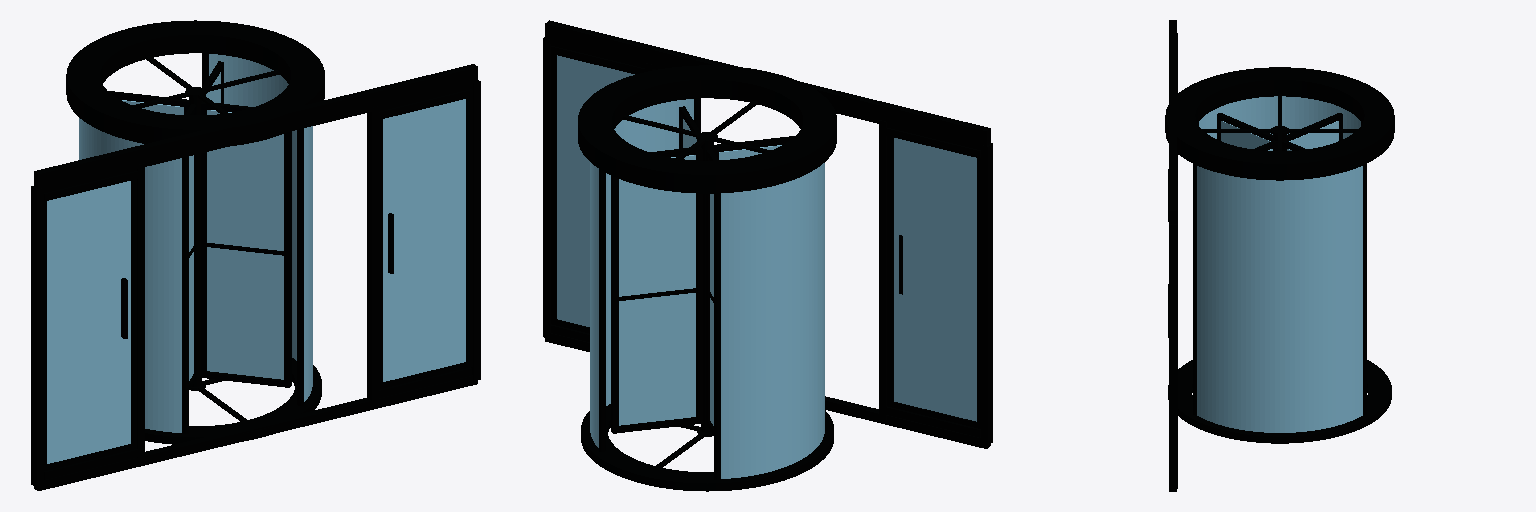
robot.urdf — revolving_glass_entrance:
<robot name="revolving_glass_entrance">
  <material name="charcoal_powder_coated_metal">
    <color rgba="0.015 0.017 0.018 1" />
    </material>
  <material name="gray_blue_tinted_glass">
    <color rgba="0.56 0.78 0.88 0.34" />
    </material>
  <link name="fixed_frame">
    <visual name="lower_threshold_ring">
      <origin xyz="0 0 0.03" rpy="0 0 0" />
      <geometry>
        <mesh filename="assets/meshes/lower_threshold_ring.obj" />
        </geometry>
      <material name="charcoal_powder_coated_metal">
        <color rgba="0.015 0.017 0.018 1" />
        </material>
      </visual>
    <visual name="upper_canopy_ring">
      <origin xyz="0 0 2.31" rpy="0 0 0" />
      <geometry>
        <mesh filename="assets/meshes/upper_canopy_ring.obj" />
        </geometry>
      <material name="charcoal_powder_coated_metal">
        <color rgba="0.015 0.017 0.018 1" />
        </material>
      </visual>
    <visual name="lower_bearing_plate">
      <origin xyz="0 0 0.05" rpy="0 0 0" />
      <geometry>
        <cylinder radius="0.07" length="0.02" />
        </geometry>
      <material name="charcoal_powder_coated_metal">
        <color rgba="0.015 0.017 0.018 1" />
        </material>
      </visual>
    <visual name="upper_bearing_plate">
      <origin xyz="0 0 2.25" rpy="0 0 0" />
      <geometry>
        <cylinder radius="0.07" length="0.02" />
        </geometry>
      <material name="charcoal_powder_coated_metal">
        <color rgba="0.015 0.017 0.018 1" />
        </material>
      </visual>
    <visual name="lower_spoke_0">
      <origin xyz="0.39 0 0.05" rpy="0 0 0" />
      <geometry>
        <box size="0.67 0.035 0.02" />
        </geometry>
      <material name="charcoal_powder_coated_metal">
        <color rgba="0.015 0.017 0.018 1" />
        </material>
      </visual>
    <visual name="upper_spoke_0">
      <origin xyz="0.39 0 2.25" rpy="0 0 0" />
      <geometry>
        <box size="0.67 0.035 0.02" />
        </geometry>
      <material name="charcoal_powder_coated_metal">
        <color rgba="0.015 0.017 0.018 1" />
        </material>
      </visual>
    <visual name="lower_spoke_1">
      <origin xyz="2.38806e-17 0.39 0.05" rpy="0 0 1.5708" />
      <geometry>
        <box size="0.67 0.035 0.02" />
        </geometry>
      <material name="charcoal_powder_coated_metal">
        <color rgba="0.015 0.017 0.018 1" />
        </material>
      </visual>
    <visual name="upper_spoke_1">
      <origin xyz="2.38806e-17 0.39 2.25" rpy="0 0 1.5708" />
      <geometry>
        <box size="0.67 0.035 0.02" />
        </geometry>
      <material name="charcoal_powder_coated_metal">
        <color rgba="0.015 0.017 0.018 1" />
        </material>
      </visual>
    <visual name="lower_spoke_2">
      <origin xyz="-0.39 4.77612e-17 0.05" rpy="0 0 3.14159" />
      <geometry>
        <box size="0.67 0.035 0.02" />
        </geometry>
      <material name="charcoal_powder_coated_metal">
        <color rgba="0.015 0.017 0.018 1" />
        </material>
      </visual>
    <visual name="upper_spoke_2">
      <origin xyz="-0.39 4.77612e-17 2.25" rpy="0 0 3.14159" />
      <geometry>
        <box size="0.67 0.035 0.02" />
        </geometry>
      <material name="charcoal_powder_coated_metal">
        <color rgba="0.015 0.017 0.018 1" />
        </material>
      </visual>
    <visual name="lower_spoke_3">
      <origin xyz="-7.16418e-17 -0.39 0.05" rpy="0 0 4.71239" />
      <geometry>
        <box size="0.67 0.035 0.02" />
        </geometry>
      <material name="charcoal_powder_coated_metal">
        <color rgba="0.015 0.017 0.018 1" />
        </material>
      </visual>
    <visual name="upper_spoke_3">
      <origin xyz="-7.16418e-17 -0.39 2.25" rpy="0 0 4.71239" />
      <geometry>
        <box size="0.67 0.035 0.02" />
        </geometry>
      <material name="charcoal_powder_coated_metal">
        <color rgba="0.015 0.017 0.018 1" />
        </material>
      </visual>
    <visual name="perimeter_post_0">
      <origin xyz="0.453125 -0.64713 1.15" rpy="0 0 0" />
      <geometry>
        <cylinder radius="0.024" length="2.18" />
        </geometry>
      <material name="charcoal_powder_coated_metal">
        <color rgba="0.015 0.017 0.018 1" />
        </material>
      </visual>
    <visual name="perimeter_post_1">
      <origin xyz="0.453125 0.64713 1.15" rpy="0 0 0" />
      <geometry>
        <cylinder radius="0.024" length="2.18" />
        </geometry>
      <material name="charcoal_powder_coated_metal">
        <color rgba="0.015 0.017 0.018 1" />
        </material>
      </visual>
    <visual name="perimeter_post_2">
      <origin xyz="-0.453125 0.64713 1.15" rpy="0 0 0" />
      <geometry>
        <cylinder radius="0.024" length="2.18" />
        </geometry>
      <material name="charcoal_powder_coated_metal">
        <color rgba="0.015 0.017 0.018 1" />
        </material>
      </visual>
    <visual name="perimeter_post_3">
      <origin xyz="-0.453125 -0.64713 1.15" rpy="0 0 0" />
      <geometry>
        <cylinder radius="0.024" length="2.18" />
        </geometry>
      <material name="charcoal_powder_coated_metal">
        <color rgba="0.015 0.017 0.018 1" />
        </material>
      </visual>
    <visual name="right_curved_glass">
      <origin xyz="0 0 1.15" rpy="0 0 0" />
      <geometry>
        <mesh filename="assets/meshes/right_curved_glass.obj" />
        </geometry>
      <material name="gray_blue_tinted_glass">
        <color rgba="0.56 0.78 0.88 0.34" />
        </material>
      </visual>
    <visual name="left_curved_glass">
      <origin xyz="0 0 1.15" rpy="0 0 0" />
      <geometry>
        <mesh filename="assets/meshes/left_curved_glass.obj" />
        </geometry>
      <material name="gray_blue_tinted_glass">
        <color rgba="0.56 0.78 0.88 0.34" />
        </material>
      </visual>
    <visual name="front_sill">
      <origin xyz="0 -0.82 0.035" rpy="0 0 0" />
      <geometry>
        <box size="3.46 0.06 0.07" />
        </geometry>
      <material name="charcoal_powder_coated_metal">
        <color rgba="0.015 0.017 0.018 1" />
        </material>
      </visual>
    <visual name="front_header">
      <origin xyz="0 -0.82 2.31" rpy="0 0 0" />
      <geometry>
        <box size="3.46 0.06 0.14" />
        </geometry>
      <material name="charcoal_powder_coated_metal">
        <color rgba="0.015 0.017 0.018 1" />
        </material>
      </visual>
    <visual name="left_outer_jamb">
      <origin xyz="-1.7175 -0.82 1.15" rpy="0 0 0" />
      <geometry>
        <box size="0.055 0.07 2.24" />
        </geometry>
      <material name="charcoal_powder_coated_metal">
        <color rgba="0.015 0.017 0.018 1" />
        </material>
      </visual>
    <visual name="left_inner_jamb">
      <origin xyz="-0.92 -0.82 1.15" rpy="0 0 0" />
      <geometry>
        <box size="0.055 0.07 2.24" />
        </geometry>
      <material name="charcoal_powder_coated_metal">
        <color rgba="0.015 0.017 0.018 1" />
        </material>
      </visual>
    <visual name="right_inner_jamb">
      <origin xyz="0.92 -0.82 1.15" rpy="0 0 0" />
      <geometry>
        <box size="0.055 0.07 2.24" />
        </geometry>
      <material name="charcoal_powder_coated_metal">
        <color rgba="0.015 0.017 0.018 1" />
        </material>
      </visual>
    <visual name="right_outer_jamb">
      <origin xyz="1.7175 -0.82 1.15" rpy="0 0 0" />
      <geometry>
        <box size="0.055 0.07 2.24" />
        </geometry>
      <material name="charcoal_powder_coated_metal">
        <color rgba="0.015 0.017 0.018 1" />
        </material>
      </visual>
    <visual name="left_side_top_rail">
      <origin xyz="-1.3 -0.82 2.195" rpy="0 0 0" />
      <geometry>
        <box size="0.76 0.07 0.055" />
        </geometry>
      <material name="charcoal_powder_coated_metal">
        <color rgba="0.015 0.017 0.018 1" />
        </material>
      </visual>
    <visual name="left_side_bottom_rail">
      <origin xyz="-1.3 -0.82 0.105" rpy="0 0 0" />
      <geometry>
        <box size="0.76 0.07 0.055" />
        </geometry>
      <material name="charcoal_powder_coated_metal">
        <color rgba="0.015 0.017 0.018 1" />
        </material>
      </visual>
    <visual name="right_side_top_rail">
      <origin xyz="1.3 -0.82 2.195" rpy="0 0 0" />
      <geometry>
        <box size="0.76 0.07 0.055" />
        </geometry>
      <material name="charcoal_powder_coated_metal">
        <color rgba="0.015 0.017 0.018 1" />
        </material>
      </visual>
    <visual name="right_side_bottom_rail">
      <origin xyz="1.3 -0.82 0.105" rpy="0 0 0" />
      <geometry>
        <box size="0.76 0.07 0.055" />
        </geometry>
      <material name="charcoal_powder_coated_metal">
        <color rgba="0.015 0.017 0.018 1" />
        </material>
      </visual>
    </link>
  <link name="carousel">
    <visual name="central_shaft">
      <origin xyz="0 0 1.15" rpy="0 0 0" />
      <geometry>
        <cylinder radius="0.045" length="2.18" />
        </geometry>
      <material name="charcoal_powder_coated_metal">
        <color rgba="0.015 0.017 0.018 1" />
        </material>
      </visual>
    <visual name="leaf_0_glass">
      <origin xyz="0.251023 0.251023 1.15" rpy="0 0 0.785398" />
      <geometry>
        <box size="0.55 0.012 1.96" />
        </geometry>
      <material name="gray_blue_tinted_glass">
        <color rgba="0.56 0.78 0.88 0.34" />
        </material>
      </visual>
    <visual name="leaf_0_inner_stile">
      <origin xyz="0.0388909 0.0388909 1.15" rpy="0 0 0.785398" />
      <geometry>
        <box size="0.04 0.04 2.06" />
        </geometry>
      <material name="charcoal_powder_coated_metal">
        <color rgba="0.015 0.017 0.018 1" />
        </material>
      </visual>
    <visual name="leaf_0_outer_stile">
      <origin xyz="0.459619 0.459619 1.15" rpy="0 0 0.785398" />
      <geometry>
        <box size="0.04 0.04 2.06" />
        </geometry>
      <material name="charcoal_powder_coated_metal">
        <color rgba="0.015 0.017 0.018 1" />
        </material>
      </visual>
    <visual name="leaf_0_top_rail">
      <origin xyz="0.251023 0.251023 2.16" rpy="0 0 0.785398" />
      <geometry>
        <box size="0.62 0.036 0.04" />
        </geometry>
      <material name="charcoal_powder_coated_metal">
        <color rgba="0.015 0.017 0.018 1" />
        </material>
      </visual>
    <visual name="leaf_0_bottom_rail">
      <origin xyz="0.251023 0.251023 0.14" rpy="0 0 0.785398" />
      <geometry>
        <box size="0.62 0.036 0.04" />
        </geometry>
      <material name="charcoal_powder_coated_metal">
        <color rgba="0.015 0.017 0.018 1" />
        </material>
      </visual>
    <visual name="leaf_0_mid_push_bar">
      <origin xyz="0.251023 0.251023 1.12" rpy="0 0 0.785398" />
      <geometry>
        <box size="0.62 0.026 0.03" />
        </geometry>
      <material name="charcoal_powder_coated_metal">
        <color rgba="0.015 0.017 0.018 1" />
        </material>
      </visual>
    <visual name="leaf_1_glass">
      <origin xyz="-0.251023 0.251023 1.15" rpy="0 0 2.35619" />
      <geometry>
        <box size="0.55 0.012 1.96" />
        </geometry>
      <material name="gray_blue_tinted_glass">
        <color rgba="0.56 0.78 0.88 0.34" />
        </material>
      </visual>
    <visual name="leaf_1_inner_stile">
      <origin xyz="-0.0388909 0.0388909 1.15" rpy="0 0 2.35619" />
      <geometry>
        <box size="0.04 0.04 2.06" />
        </geometry>
      <material name="charcoal_powder_coated_metal">
        <color rgba="0.015 0.017 0.018 1" />
        </material>
      </visual>
    <visual name="leaf_1_outer_stile">
      <origin xyz="-0.459619 0.459619 1.15" rpy="0 0 2.35619" />
      <geometry>
        <box size="0.04 0.04 2.06" />
        </geometry>
      <material name="charcoal_powder_coated_metal">
        <color rgba="0.015 0.017 0.018 1" />
        </material>
      </visual>
    <visual name="leaf_1_top_rail">
      <origin xyz="-0.251023 0.251023 2.16" rpy="0 0 2.35619" />
      <geometry>
        <box size="0.62 0.036 0.04" />
        </geometry>
      <material name="charcoal_powder_coated_metal">
        <color rgba="0.015 0.017 0.018 1" />
        </material>
      </visual>
    <visual name="leaf_1_bottom_rail">
      <origin xyz="-0.251023 0.251023 0.14" rpy="0 0 2.35619" />
      <geometry>
        <box size="0.62 0.036 0.04" />
        </geometry>
      <material name="charcoal_powder_coated_metal">
        <color rgba="0.015 0.017 0.018 1" />
        </material>
      </visual>
    <visual name="leaf_1_mid_push_bar">
      <origin xyz="-0.251023 0.251023 1.12" rpy="0 0 2.35619" />
      <geometry>
        <box size="0.62 0.026 0.03" />
        </geometry>
      <material name="charcoal_powder_coated_metal">
        <color rgba="0.015 0.017 0.018 1" />
        </material>
      </visual>
    <visual name="leaf_2_glass">
      <origin xyz="-0.251023 -0.251023 1.15" rpy="0 0 3.92699" />
      <geometry>
        <box size="0.55 0.012 1.96" />
        </geometry>
      <material name="gray_blue_tinted_glass">
        <color rgba="0.56 0.78 0.88 0.34" />
        </material>
      </visual>
    <visual name="leaf_2_inner_stile">
      <origin xyz="-0.0388909 -0.0388909 1.15" rpy="0 0 3.92699" />
      <geometry>
        <box size="0.04 0.04 2.06" />
        </geometry>
      <material name="charcoal_powder_coated_metal">
        <color rgba="0.015 0.017 0.018 1" />
        </material>
      </visual>
    <visual name="leaf_2_outer_stile">
      <origin xyz="-0.459619 -0.459619 1.15" rpy="0 0 3.92699" />
      <geometry>
        <box size="0.04 0.04 2.06" />
        </geometry>
      <material name="charcoal_powder_coated_metal">
        <color rgba="0.015 0.017 0.018 1" />
        </material>
      </visual>
    <visual name="leaf_2_top_rail">
      <origin xyz="-0.251023 -0.251023 2.16" rpy="0 0 3.92699" />
      <geometry>
        <box size="0.62 0.036 0.04" />
        </geometry>
      <material name="charcoal_powder_coated_metal">
        <color rgba="0.015 0.017 0.018 1" />
        </material>
      </visual>
    <visual name="leaf_2_bottom_rail">
      <origin xyz="-0.251023 -0.251023 0.14" rpy="0 0 3.92699" />
      <geometry>
        <box size="0.62 0.036 0.04" />
        </geometry>
      <material name="charcoal_powder_coated_metal">
        <color rgba="0.015 0.017 0.018 1" />
        </material>
      </visual>
    <visual name="leaf_2_mid_push_bar">
      <origin xyz="-0.251023 -0.251023 1.12" rpy="0 0 3.92699" />
      <geometry>
        <box size="0.62 0.026 0.03" />
        </geometry>
      <material name="charcoal_powder_coated_metal">
        <color rgba="0.015 0.017 0.018 1" />
        </material>
      </visual>
    <visual name="leaf_3_glass">
      <origin xyz="0.251023 -0.251023 1.15" rpy="0 0 5.49779" />
      <geometry>
        <box size="0.55 0.012 1.96" />
        </geometry>
      <material name="gray_blue_tinted_glass">
        <color rgba="0.56 0.78 0.88 0.34" />
        </material>
      </visual>
    <visual name="leaf_3_inner_stile">
      <origin xyz="0.0388909 -0.0388909 1.15" rpy="0 0 5.49779" />
      <geometry>
        <box size="0.04 0.04 2.06" />
        </geometry>
      <material name="charcoal_powder_coated_metal">
        <color rgba="0.015 0.017 0.018 1" />
        </material>
      </visual>
    <visual name="leaf_3_outer_stile">
      <origin xyz="0.459619 -0.459619 1.15" rpy="0 0 5.49779" />
      <geometry>
        <box size="0.04 0.04 2.06" />
        </geometry>
      <material name="charcoal_powder_coated_metal">
        <color rgba="0.015 0.017 0.018 1" />
        </material>
      </visual>
    <visual name="leaf_3_top_rail">
      <origin xyz="0.251023 -0.251023 2.16" rpy="0 0 5.49779" />
      <geometry>
        <box size="0.62 0.036 0.04" />
        </geometry>
      <material name="charcoal_powder_coated_metal">
        <color rgba="0.015 0.017 0.018 1" />
        </material>
      </visual>
    <visual name="leaf_3_bottom_rail">
      <origin xyz="0.251023 -0.251023 0.14" rpy="0 0 5.49779" />
      <geometry>
        <box size="0.62 0.036 0.04" />
        </geometry>
      <material name="charcoal_powder_coated_metal">
        <color rgba="0.015 0.017 0.018 1" />
        </material>
      </visual>
    <visual name="leaf_3_mid_push_bar">
      <origin xyz="0.251023 -0.251023 1.12" rpy="0 0 5.49779" />
      <geometry>
        <box size="0.62 0.026 0.03" />
        </geometry>
      <material name="charcoal_powder_coated_metal">
        <color rgba="0.015 0.017 0.018 1" />
        </material>
      </visual>
    </link>
  <link name="left_side_door">
    <visual name="glass_panel">
      <origin xyz="0.37125 0 1.1325" rpy="0 0 0" />
      <geometry>
        <box size="0.6625 0.012 2.035" />
        </geometry>
      <material name="gray_blue_tinted_glass">
        <color rgba="0.56 0.78 0.88 0.34" />
        </material>
      </visual>
    <visual name="hinge_rail">
      <origin xyz="0.02 0 1.1325" rpy="0 0 0" />
      <geometry>
        <box size="0.04 0.04 2.115" />
        </geometry>
      <material name="charcoal_powder_coated_metal">
        <color rgba="0.015 0.017 0.018 1" />
        </material>
      </visual>
    <visual name="latch_rail">
      <origin xyz="0.7225 0 1.1325" rpy="0 0 0" />
      <geometry>
        <box size="0.04 0.04 2.115" />
        </geometry>
      <material name="charcoal_powder_coated_metal">
        <color rgba="0.015 0.017 0.018 1" />
        </material>
      </visual>
    <visual name="top_rail">
      <origin xyz="0.37125 0 2.17" rpy="0 0 0" />
      <geometry>
        <box size="0.7425 0.04 0.04" />
        </geometry>
      <material name="charcoal_powder_coated_metal">
        <color rgba="0.015 0.017 0.018 1" />
        </material>
      </visual>
    <visual name="bottom_rail">
      <origin xyz="0.37125 0 0.095" rpy="0 0 0" />
      <geometry>
        <box size="0.7425 0.04 0.04" />
        </geometry>
      <material name="charcoal_powder_coated_metal">
        <color rgba="0.015 0.017 0.018 1" />
        </material>
      </visual>
    <visual name="pull_handle">
      <origin xyz="0.6425 -0.018 1.1525" rpy="0 0 0" />
      <geometry>
        <box size="0.026 0.052 0.44" />
        </geometry>
      <material name="charcoal_powder_coated_metal">
        <color rgba="0.015 0.017 0.018 1" />
        </material>
      </visual>
    </link>
  <link name="right_side_door">
    <visual name="glass_panel">
      <origin xyz="-0.37125 0 1.1325" rpy="0 0 0" />
      <geometry>
        <box size="0.6625 0.012 2.035" />
        </geometry>
      <material name="gray_blue_tinted_glass">
        <color rgba="0.56 0.78 0.88 0.34" />
        </material>
      </visual>
    <visual name="hinge_rail">
      <origin xyz="-0.02 0 1.1325" rpy="0 0 0" />
      <geometry>
        <box size="0.04 0.04 2.115" />
        </geometry>
      <material name="charcoal_powder_coated_metal">
        <color rgba="0.015 0.017 0.018 1" />
        </material>
      </visual>
    <visual name="latch_rail">
      <origin xyz="-0.7225 0 1.1325" rpy="0 0 0" />
      <geometry>
        <box size="0.04 0.04 2.115" />
        </geometry>
      <material name="charcoal_powder_coated_metal">
        <color rgba="0.015 0.017 0.018 1" />
        </material>
      </visual>
    <visual name="top_rail">
      <origin xyz="-0.37125 0 2.17" rpy="0 0 0" />
      <geometry>
        <box size="0.7425 0.04 0.04" />
        </geometry>
      <material name="charcoal_powder_coated_metal">
        <color rgba="0.015 0.017 0.018 1" />
        </material>
      </visual>
    <visual name="bottom_rail">
      <origin xyz="-0.37125 0 0.095" rpy="0 0 0" />
      <geometry>
        <box size="0.7425 0.04 0.04" />
        </geometry>
      <material name="charcoal_powder_coated_metal">
        <color rgba="0.015 0.017 0.018 1" />
        </material>
      </visual>
    <visual name="pull_handle">
      <origin xyz="-0.6425 -0.018 1.1525" rpy="0 0 0" />
      <geometry>
        <box size="0.026 0.052 0.44" />
        </geometry>
      <material name="charcoal_powder_coated_metal">
        <color rgba="0.015 0.017 0.018 1" />
        </material>
      </visual>
    </link>
  <joint name="frame_to_carousel" type="continuous">
    <parent link="fixed_frame" />
    <child link="carousel" />
    <axis xyz="0 0 1" />
    <limit effort="60" velocity="1.2" />
    </joint>
  <joint name="left_side_hinge" type="revolute">
    <origin xyz="-1.69 -0.82 0.06" rpy="0 0 0" />
    <parent link="fixed_frame" />
    <child link="left_side_door" />
    <axis xyz="0 0 1" />
    <limit effort="18" velocity="1" lower="0" upper="1.35" />
    </joint>
  <joint name="right_side_hinge" type="revolute">
    <origin xyz="1.69 -0.82 0.06" rpy="0 0 0" />
    <parent link="fixed_frame" />
    <child link="right_side_door" />
    <axis xyz="0 0 -1" />
    <limit effort="18" velocity="1" lower="0" upper="1.35" />
    </joint>
  </robot>

--- What the picture shows (computed from the rendered views, not written in the file) ---
The picture shows the robot from 3 angles, left to right: view 1: azimuth 30°, elevation 25°; view 2: azimuth 150°, elevation 25°; view 3: azimuth 270°, elevation 25°; orthographic projection.
Model revolving_glass_entrance with 4 links and 3 joints (2 revolute, 1 continuous), rooted at fixed_frame, posed all joints at 0.
Visible links, largest first — view 1: fixed_frame, carousel, right_side_door, left_side_door; view 2: fixed_frame, carousel, left_side_door, right_side_door; view 3: fixed_frame, carousel.
Link boxes in pixels (box(x1,y1,x2,y2)): fixed_frame: box(31, 20, 480, 490); carousel: box(109, 61, 291, 389); right_side_door: box(379, 87, 472, 389); left_side_door: box(44, 169, 136, 470); fixed_frame: box(543, 20, 992, 491); carousel: box(611, 106, 794, 435); left_side_door: box(887, 126, 980, 428); right_side_door: box(551, 44, 644, 333); fixed_frame: box(1165, 20, 1394, 491); carousel: box(1217, 113, 1342, 150).
Bounding box of the posed robot: 3.49 × 1.76 × 2.38 m (x, y, z).
Meshes: 4 distinct files referenced, 4 mesh visuals loaded (4 OBJ).
